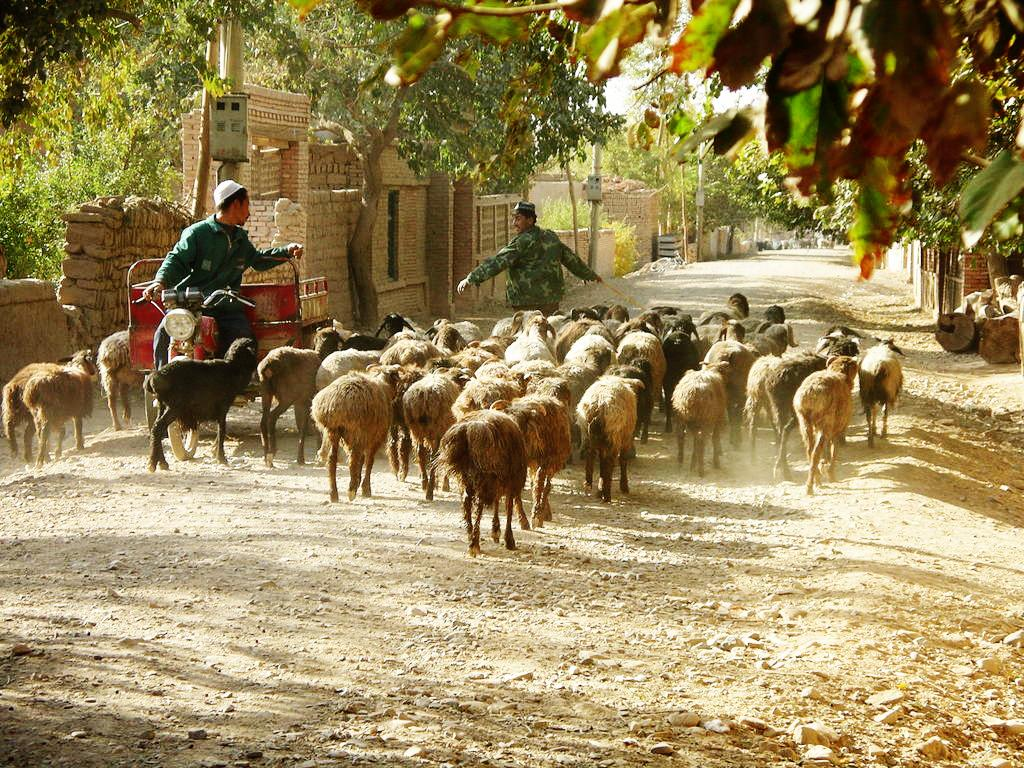Sheep: (138, 333, 267, 475), (298, 345, 400, 501), (441, 402, 536, 554), (258, 326, 343, 470), (770, 335, 846, 483), (498, 375, 571, 527), (407, 358, 470, 506), (792, 356, 860, 493), (574, 376, 646, 494), (674, 353, 730, 480), (616, 319, 663, 445), (705, 320, 749, 449), (859, 334, 907, 452), (665, 317, 700, 434), (387, 323, 466, 369), (345, 313, 415, 362), (501, 316, 561, 369), (705, 291, 754, 328)
